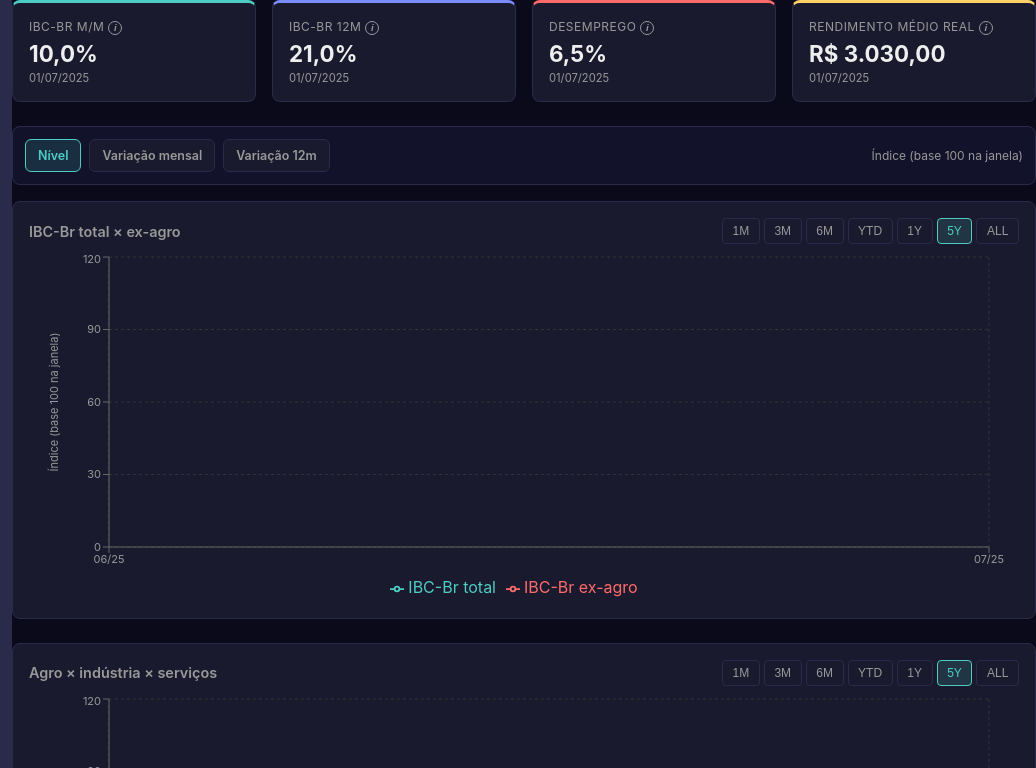
Test: Atividade › keeps available charts and reports transformation failures without NaN or Infinity
The image size is (1036, 768).
Click the button "Variação mensal" at (152, 156), box [90, 139, 215, 172]
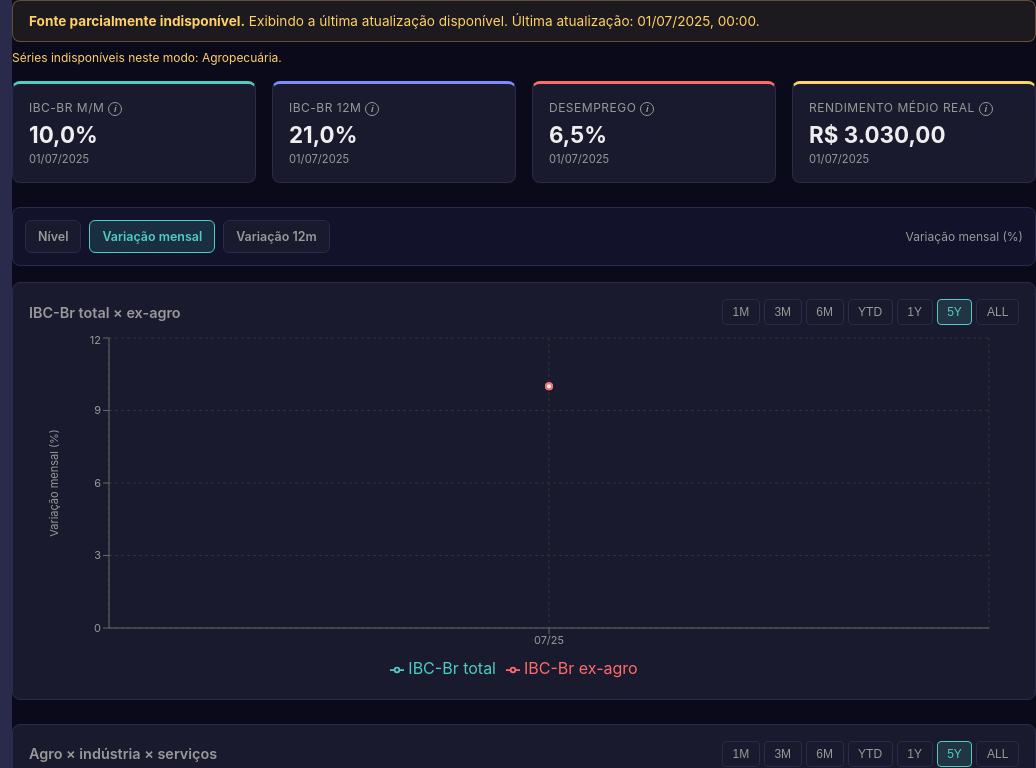
Now the message shows "Fonte parcialmente indisponível.", box [29, 13, 245, 29]
Now the text "Séries indisponíveis neste modo: Agropecuária." is shown, box [12, 50, 282, 65]
